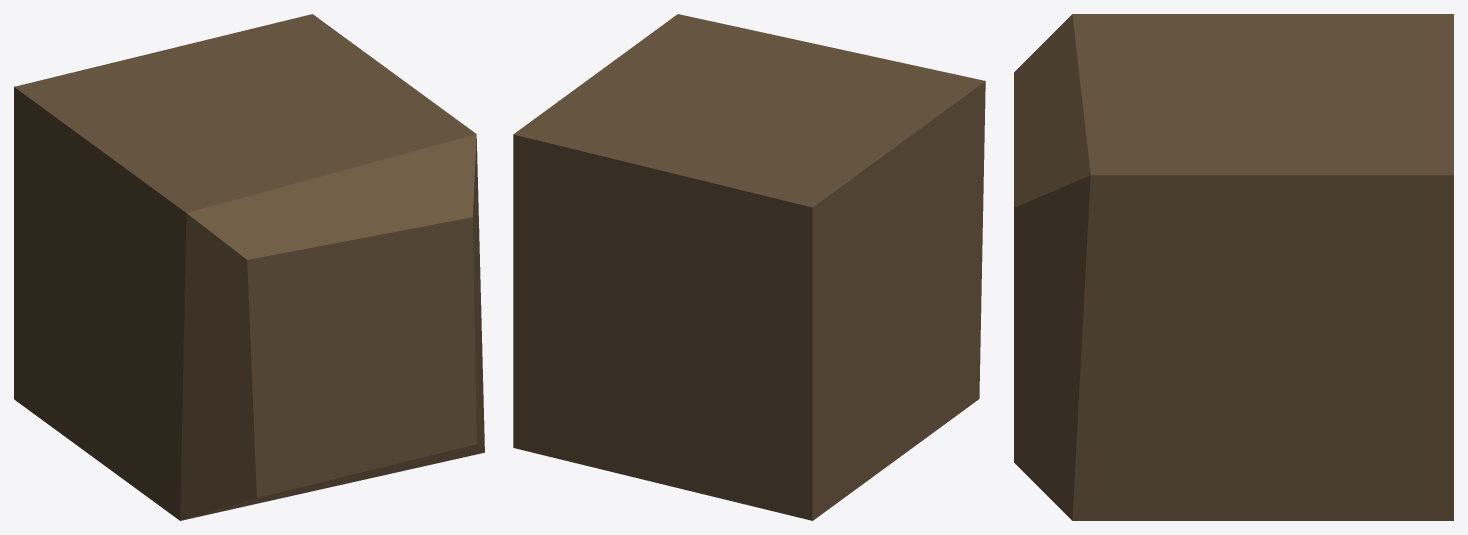
File: SM_Prop_Wires_Connector_01.fbx
3 renders of one model, left to right at view 1: azimuth 30°, elevation 25°; view 2: azimuth 150°, elevation 25°; view 3: azimuth 270°, elevation 25°, orthographic. The views are drawn at different scales.
Parts seen in each view (by area): view 1: SM_Prop_Wires_Connector_01; view 2: SM_Prop_Wires_Connector_01; view 3: SM_Prop_Wires_Connector_01.
Boxes of the visible parts, x1,y1,x2,y2 form: SM_Prop_Wires_Connector_01: (14,14,484,520); SM_Prop_Wires_Connector_01: (513,14,985,520); SM_Prop_Wires_Connector_01: (1014,14,1453,520).
Bounding box in the file's own units: 10 × 10 × 11.53.
